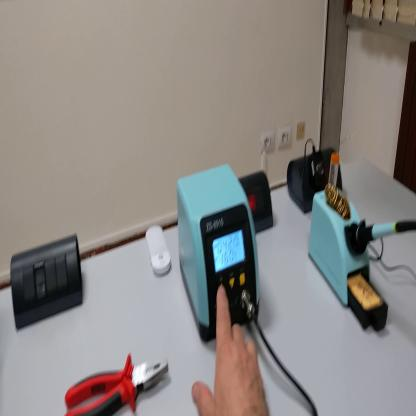hand: (193, 289, 272, 415)
pliers: (65, 350, 172, 416)
socket: (289, 145, 343, 215), (241, 169, 276, 236)
welder base: (307, 148, 391, 336)
welder probe tip: (359, 216, 416, 247)
welder station: (179, 161, 262, 339)
